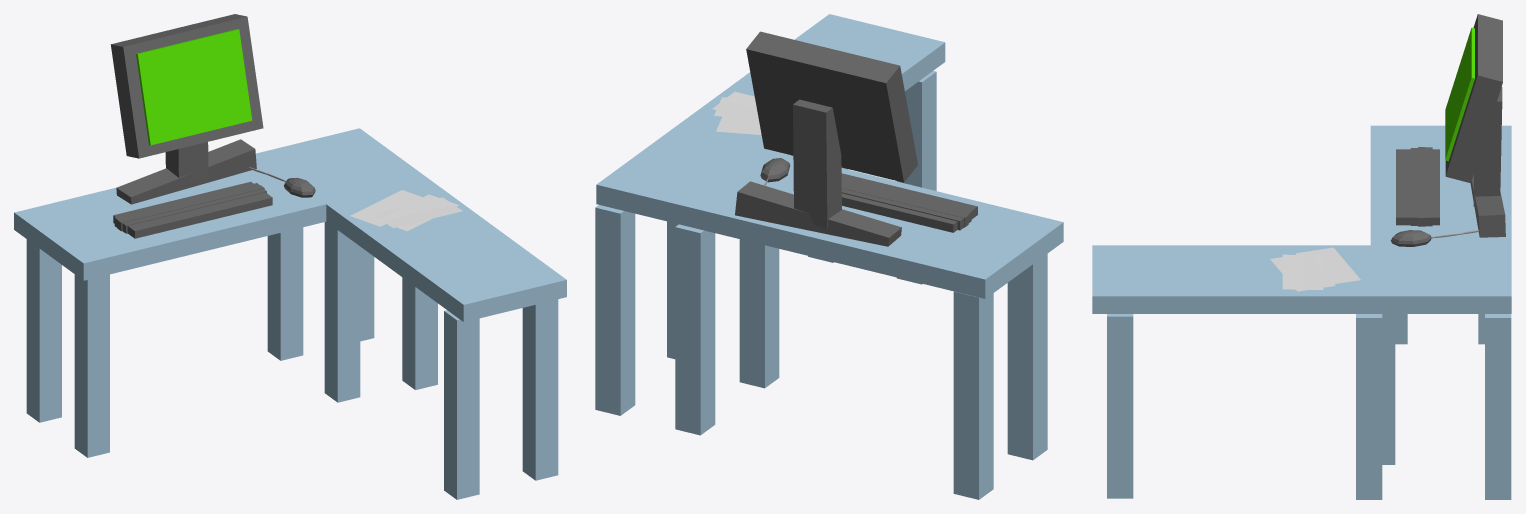
File: computer desk.fbx
The picture shows the model from 3 angles, left to right: view 1: azimuth 30°, elevation 25°; view 2: azimuth 150°, elevation 25°; view 3: azimuth 270°, elevation 25°; orthographic projection. The views are drawn at different scales.
Visible parts, largest first — view 1: pCube10, pCube15, pCube11, pCube8, pCube9, pCube2, pCube7, pCube1, pCube6, pCube14, pCube4, pCube13 (+5 smaller); view 2: pCube10, pCube11, pCube5, pCube6, pCube1, pCube2, pCube7, pCube12, pCube14, pCube13, pCube8, pCube4 (+3 smaller); view 3: pCube10, pCube4, pCube5, pCube9, pCube11, pCube14, pCube7, pCube12, pCube15, pCube13, pPlane1, pPlane3 (+2 smaller).
Boxes of the visible parts, bbox=[...] form: pCube10: bbox=[14, 128, 566, 321]; pCube15: bbox=[136, 29, 252, 145]; pCube11: bbox=[110, 14, 263, 158]; pCube8: bbox=[444, 310, 479, 499]; pCube9: bbox=[522, 299, 558, 480]; pCube2: bbox=[74, 274, 109, 457]; pCube7: bbox=[324, 221, 360, 402]; pCube1: bbox=[26, 239, 61, 422]; pCube6: bbox=[267, 227, 303, 360]; pCube14: bbox=[113, 181, 272, 238]; pCube4: bbox=[402, 277, 437, 389]; pCube13: bbox=[116, 139, 256, 204]; pCube10: bbox=[596, 14, 1063, 298]; pCube11: bbox=[746, 31, 917, 182]; pCube5: bbox=[595, 205, 635, 415]; pCube6: bbox=[675, 224, 715, 435]; pCube1: bbox=[953, 291, 993, 499]; pCube2: bbox=[1007, 254, 1047, 460]; pCube7: bbox=[739, 239, 779, 388]; pCube12: bbox=[793, 99, 841, 228]; pCube14: bbox=[841, 173, 977, 232]; pCube13: bbox=[735, 181, 901, 246]; pCube8: bbox=[896, 71, 936, 284]; pCube4: bbox=[667, 221, 678, 359]; pCube10: bbox=[1092, 125, 1511, 313]; pCube4: bbox=[1356, 314, 1382, 499]; pCube5: bbox=[1485, 314, 1511, 499]; pCube9: bbox=[1107, 314, 1133, 498]; pCube11: bbox=[1445, 14, 1502, 183]; pCube14: bbox=[1396, 147, 1439, 226]; pCube7: bbox=[1382, 314, 1395, 464]; pCube12: bbox=[1473, 87, 1502, 206]; pCube15: bbox=[1445, 27, 1474, 161]; pCube13: bbox=[1470, 174, 1505, 237]; pPlane1: bbox=[1295, 247, 1360, 283]; pPlane3: bbox=[1282, 254, 1323, 289].
Bounding box in the file's own units: 15.4 × 15.1 × 15.93.
